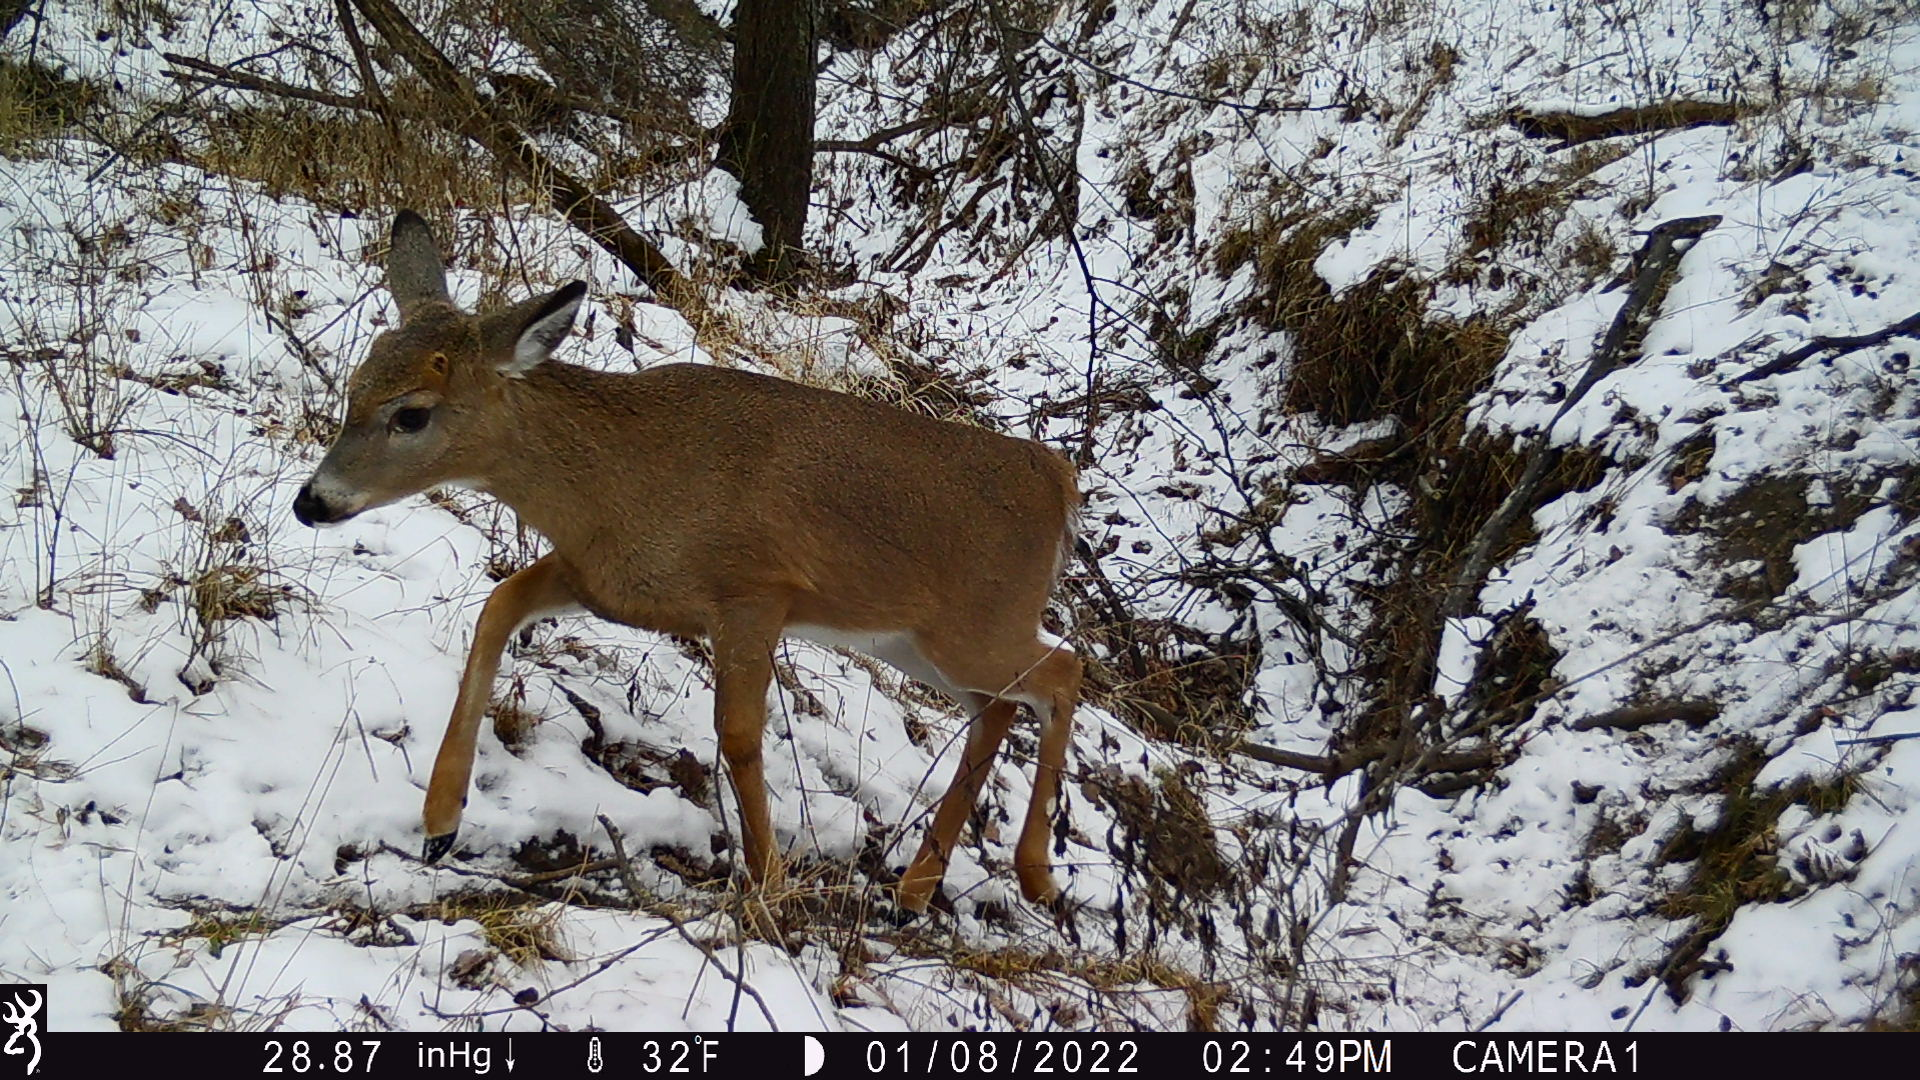DeerDoe: (291, 207, 1084, 922)
